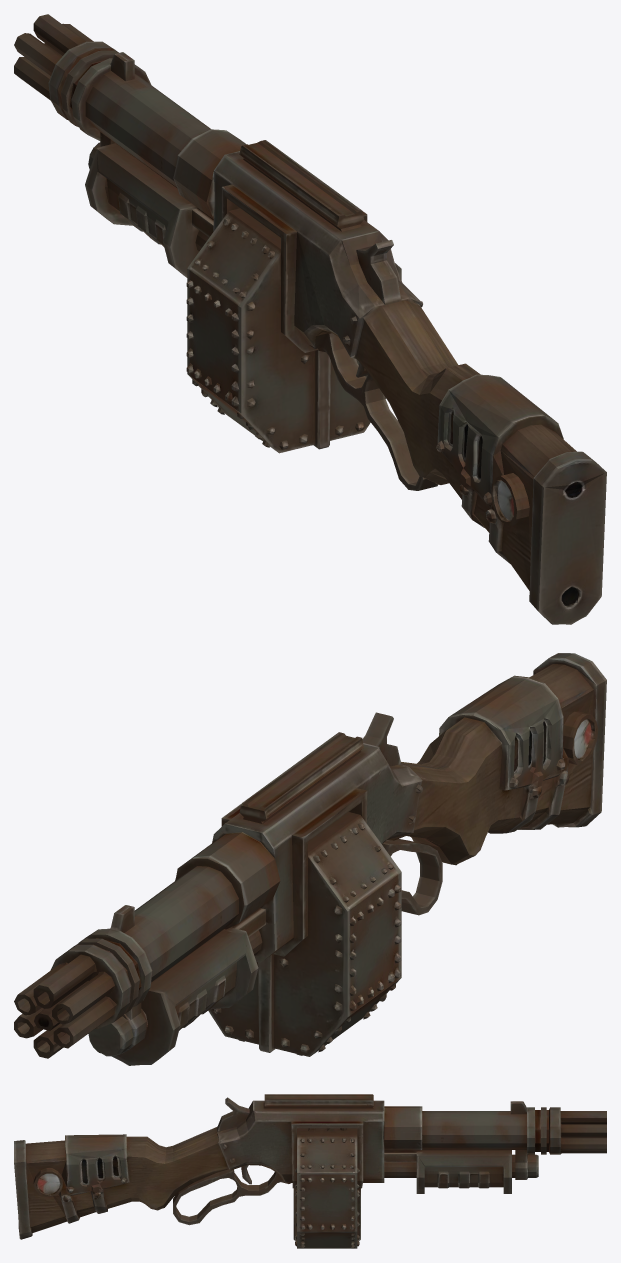
The model's file is shotgun.glb.
3 views of the same model, one above another, from view 1: azimuth 30°, elevation 25°; view 2: azimuth 150°, elevation 25°; view 3: azimuth 270°, elevation 25° (orthographic). The views are drawn at different scales.
Parts seen in each view (by area): view 1: tripo_node_a9eeaf4a-5d43-4c9b-869f-e5158aa05937; view 2: tripo_node_a9eeaf4a-5d43-4c9b-869f-e5158aa05937; view 3: tripo_node_a9eeaf4a-5d43-4c9b-869f-e5158aa05937.
Boxes of the visible parts, box(x1,y1,x2,y2) form: tripo_node_a9eeaf4a-5d43-4c9b-869f-e5158aa05937: box(14, 14, 606, 624); tripo_node_a9eeaf4a-5d43-4c9b-869f-e5158aa05937: box(14, 653, 606, 1065); tripo_node_a9eeaf4a-5d43-4c9b-869f-e5158aa05937: box(14, 1094, 606, 1248).
Size of the model in its own units: 0.364 by 0.5284 by 2.
Materials: 1 (1 with a texture image).
